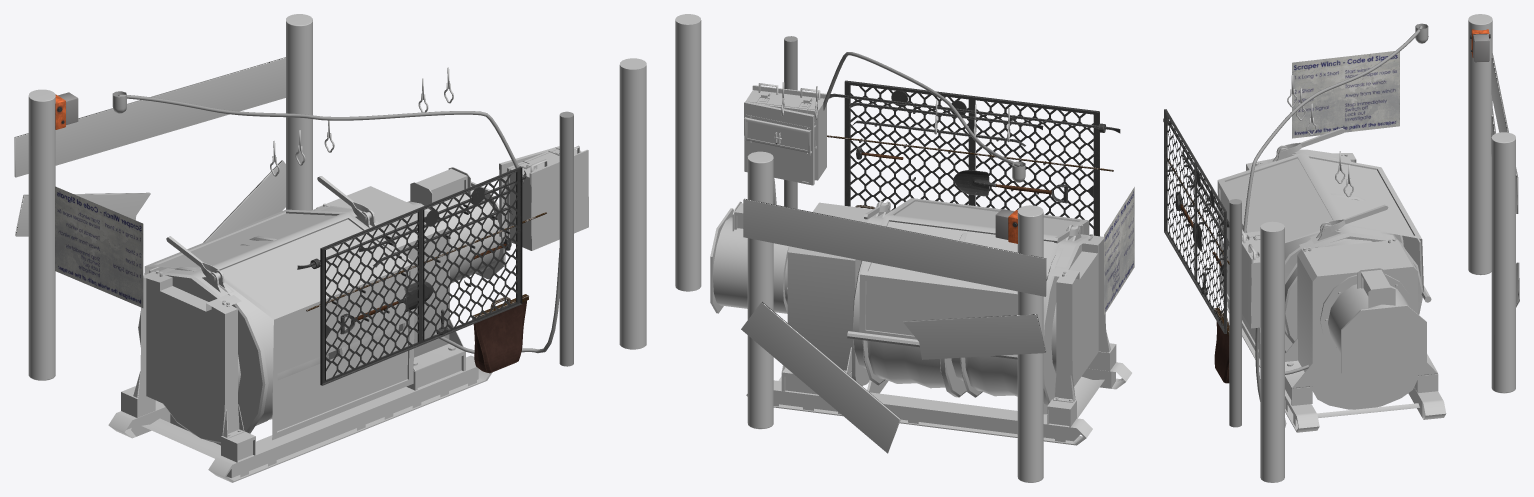
Rendered from Top gulley winch broken plank.fbx.
3 views of the same model, side by side, from view 1: azimuth 30°, elevation 25°; view 2: azimuth 150°, elevation 25°; view 3: azimuth 270°, elevation 25° (orthographic). The views are drawn at different scales.
Visible parts, largest first — view 1: Winch_004, Winch_007, Wood_barricades_016, Tool_rack_001__3_, Cylinder_005, Code_of_Signals, Cylinder_012, Wood_barricades_021.003, Power_box_not_locked__Hazard_.002, Power_Box.002, BezierCurve_017, Signaling_Device_054; view 2: Winch_004, Wood_barricades_016, Tool_rack_001__3_, Winch_007, Wood_barricades_021.003, Cylinder_005, Power_box_not_locked__Hazard_.002, Code_of_Signals, Power_Box.002, BezierCurve_017, Cylinder_012, Signaling_Device_054; view 3: Winch_004, Wood_barricades_016, Winch_007, Code_of_Signals, Tool_rack_001__3_, Cylinder_005, Cylinder_012, Power_box_not_locked__Hazard_.002, BezierCurve_017, Power_Box.002, Signaling_Device_054, BezierCurve_005.
Boxes of the visible parts, box(x1,y1,x2,y2) form: Winch_004: box(108, 167, 505, 482); Winch_007: box(144, 209, 415, 440); Wood_barricades_016: box(14, 14, 312, 380); Tool_rack_001__3_: box(297, 166, 546, 385); Cylinder_005: box(619, 58, 646, 349); Code_of_Signals: box(55, 186, 143, 307); Cylinder_012: box(559, 111, 573, 366); Wood_barricades_021.003: box(15, 160, 285, 242); Power_box_not_locked__Hazard_.002: box(499, 146, 588, 250); Power_Box.002: box(506, 146, 588, 250); BezierCurve_017: box(118, 94, 523, 183); Signaling_Device_054: box(55, 92, 78, 129); Winch_004: box(710, 201, 1131, 445); Wood_barricades_016: box(743, 151, 1046, 482); Tool_rack_001__3_: box(827, 80, 1120, 236); Winch_007: box(859, 198, 1089, 339); Wood_barricades_021.003: box(741, 301, 1046, 453); Cylinder_005: box(675, 14, 701, 291); Power_box_not_locked__Hazard_.002: box(744, 84, 826, 185); Code_of_Signals: box(1104, 187, 1134, 314); Power_Box.002: box(744, 83, 826, 180); BezierCurve_017: box(823, 52, 1021, 166); Cylinder_012: box(784, 36, 797, 208); Signaling_Device_054: box(995, 209, 1017, 243); Winch_004: box(1221, 128, 1446, 432); Wood_barricades_016: box(1468, 14, 1518, 393); Winch_007: box(1217, 153, 1423, 359); Code_of_Signals: box(1292, 51, 1399, 138); Tool_rack_001__3_: box(1163, 109, 1229, 383); Cylinder_005: box(1260, 221, 1284, 482); Cylinder_012: box(1229, 199, 1241, 427); Power_box_not_locked__Hazard_.002: box(1242, 232, 1260, 328); BezierCurve_017: box(1243, 26, 1422, 232); Power_Box.002: box(1242, 229, 1260, 327); Signaling_Device_054: box(1470, 29, 1490, 62); BezierCurve_005: box(1255, 327, 1308, 427).
Size of the model in its own units: 342 by 194 by 227.
